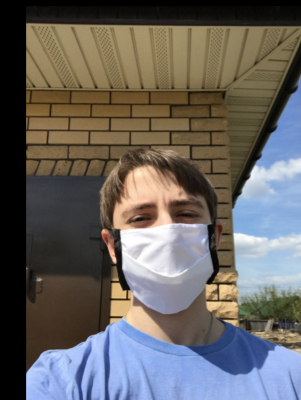with_mask: (112, 187, 217, 314)
